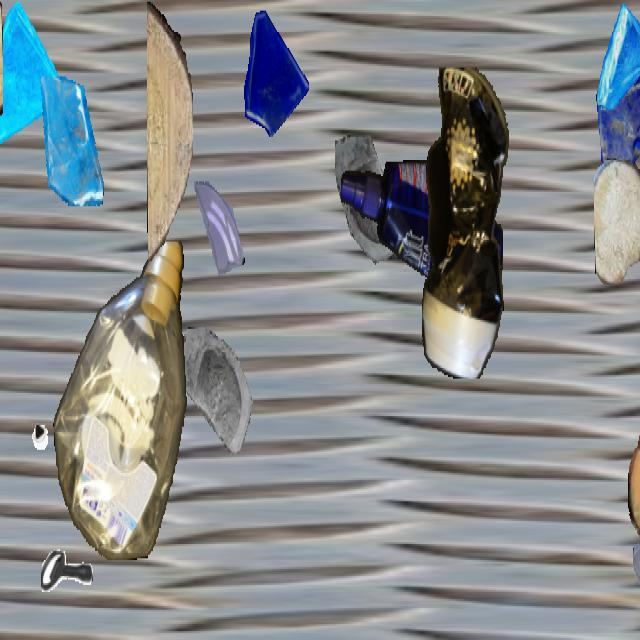glass: (333, 135, 419, 288), (181, 323, 265, 473), (235, 2, 311, 137), (0, 2, 62, 162), (34, 76, 106, 205), (189, 180, 247, 282), (594, 75, 640, 192), (595, 2, 640, 119), (633, 486, 640, 638)
metal: (0, 354, 53, 457), (41, 528, 93, 620)
plastic: (53, 242, 189, 558), (422, 67, 510, 377), (341, 160, 503, 306)
wood: (147, 2, 193, 261), (594, 158, 640, 283), (628, 413, 640, 551), (0, 2, 3, 119)
